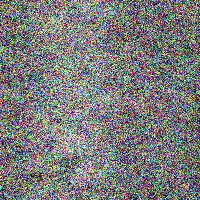rolled-in_scale: (80, 113, 200, 200)
